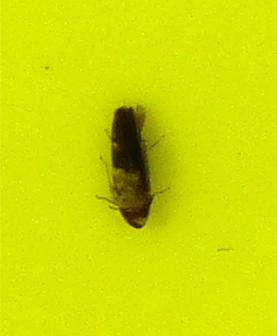Hemiptera: (100, 100, 177, 236)
